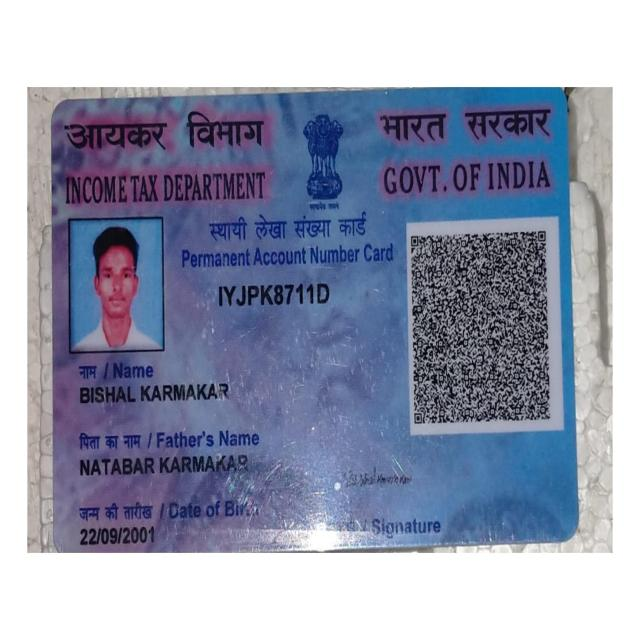pan_card: (53, 90, 577, 551)
